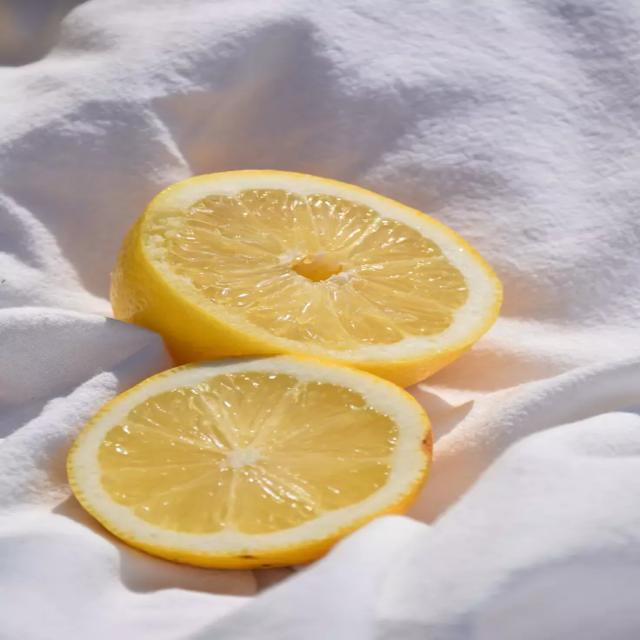lemon: (112, 171, 501, 386), (68, 356, 431, 567)
